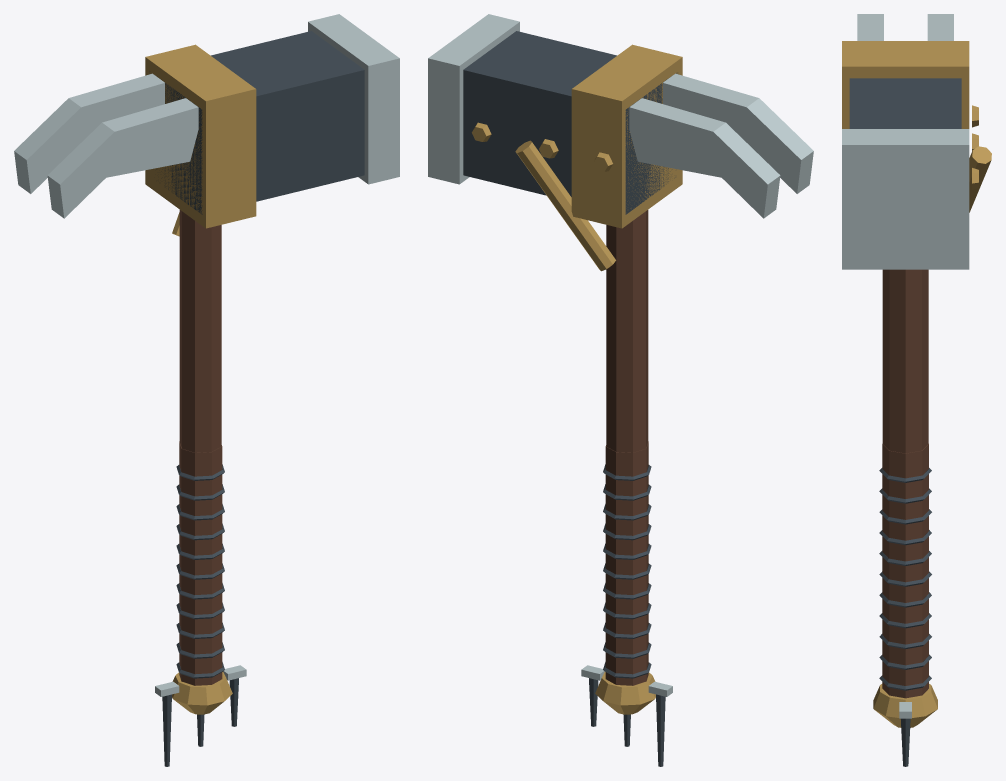
File: ThousandNails.fbx
3 views of the same model, side by side, from view 1: azimuth 30°, elevation 25°; view 2: azimuth 150°, elevation 25°; view 3: azimuth 270°, elevation 25° (orthographic). The views are drawn at different scales.
Visible parts, largest first — view 1: Legendary_ThousandNails; view 2: Legendary_ThousandNails; view 3: Legendary_ThousandNails.
Boxes of the visible parts, bbox=[...] form: Legendary_ThousandNails: bbox=[14, 14, 399, 766]; Legendary_ThousandNails: bbox=[428, 14, 813, 766]; Legendary_ThousandNails: bbox=[842, 14, 991, 766].
Size of the model in its own units: 0.7925 by 1.56 by 0.2942.
